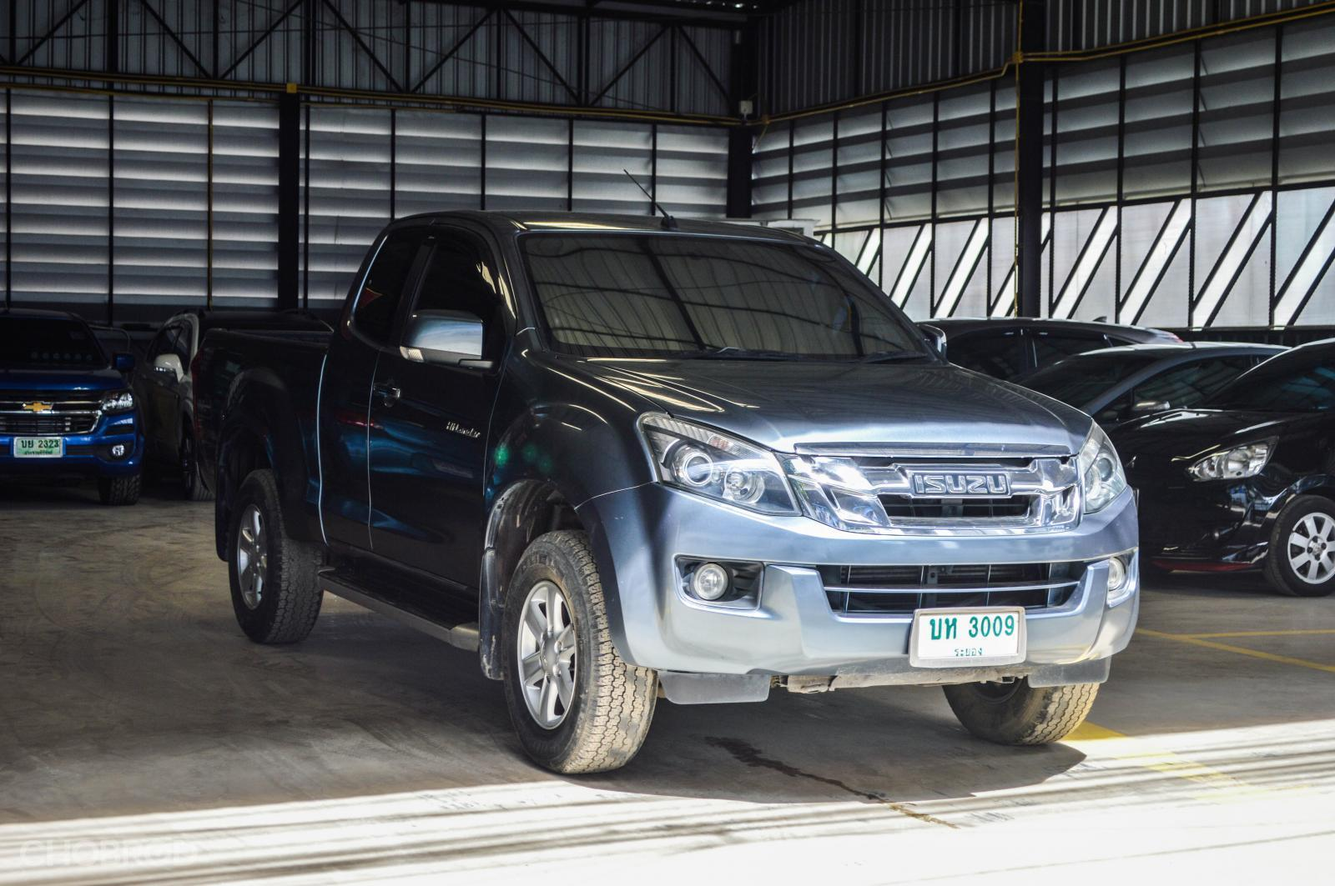license-plate: (913, 608, 1029, 667)
